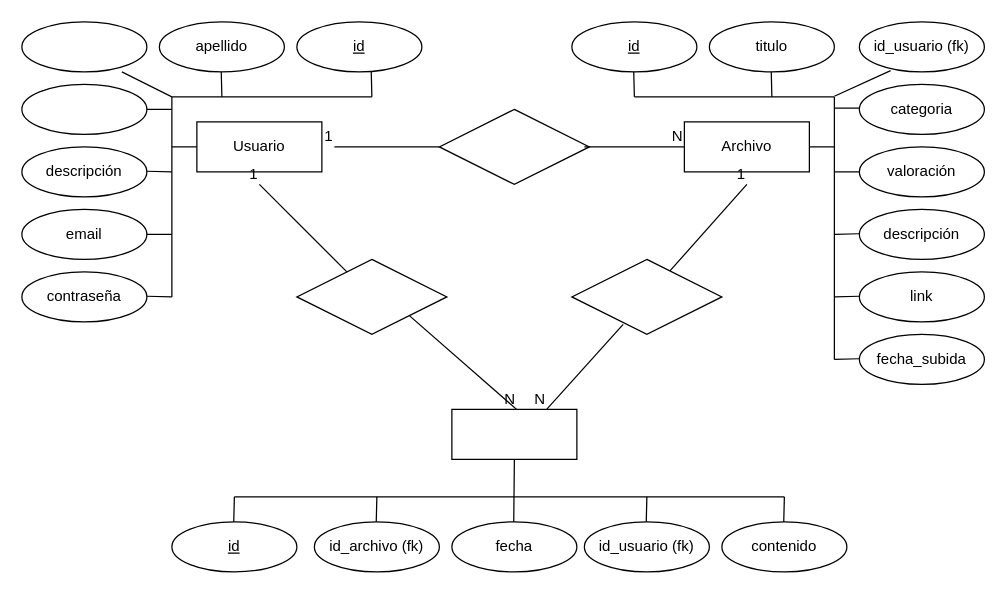
The diagram is 1006 pixels wide and 594 high, and some of its shapes have lost their labels. Each missing label, with the centre of its shape:
"Comentario" goes at point (514, 433).
"nombre" goes at point (84, 46).
"pertenece" goes at point (646, 296).
"publica" goes at point (371, 296).
"rol" goes at point (84, 108).
"sube" goes at point (513, 146).
